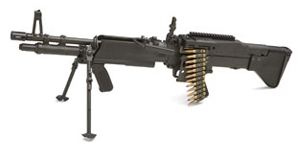rifle: (2, 8, 290, 148)
